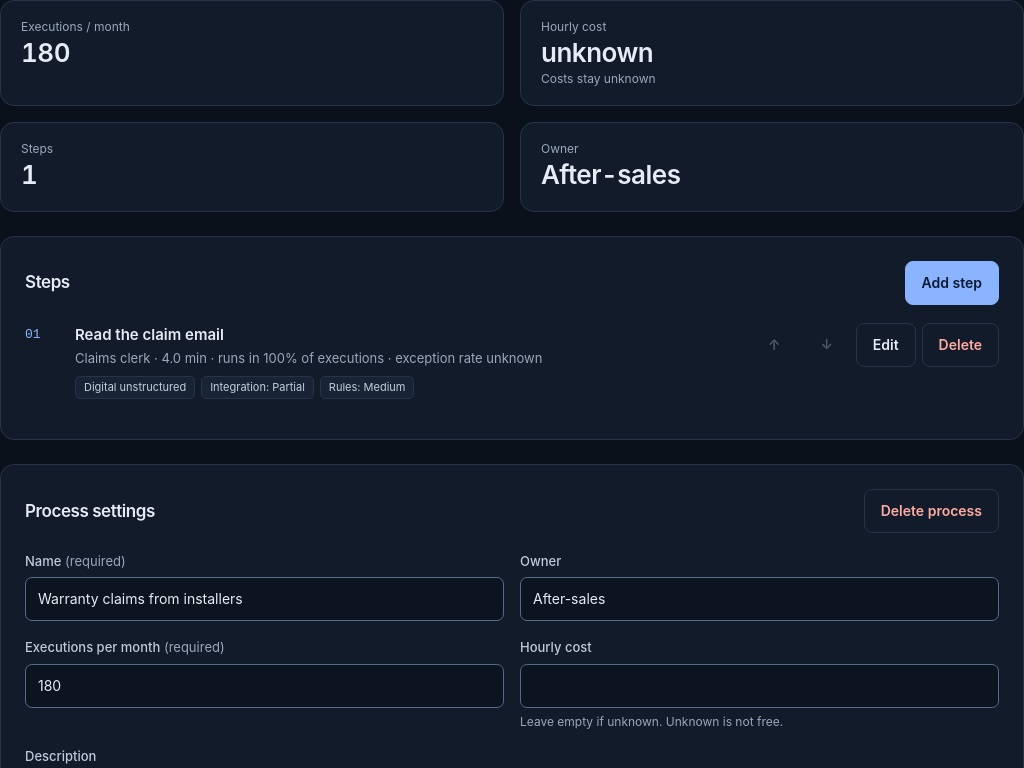
Test: RS-74: the step form › reads an unknown exception rate as unknown and saves it untouched as null (criterion 4)
Click the button "Edit" at (886, 344), box x1=856 y1=322 x2=916 y2=366
(page scrolled)
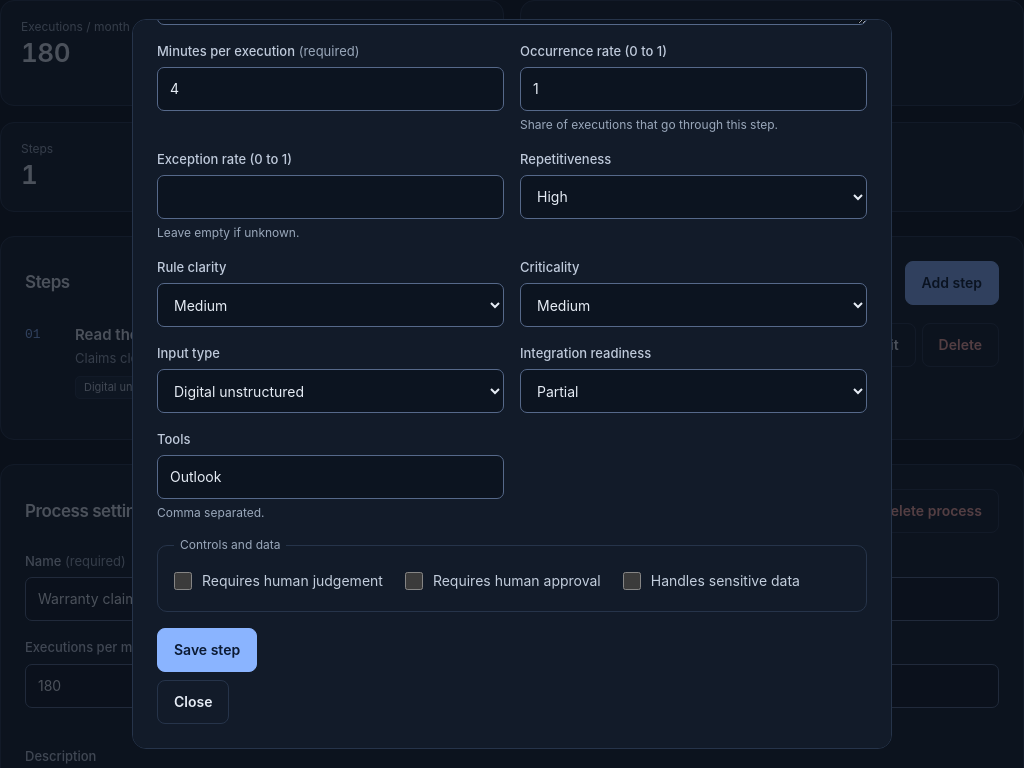
Expected: the text "exception rate unknown" is shown, x1=75 y1=350 x2=542 y2=366
Expected: the text "Leave empty if unknown." is shown, x1=157 y1=225 x2=299 y2=240
Click the button "Save step" at (207, 650), box x1=157 y1=628 x2=257 y2=672
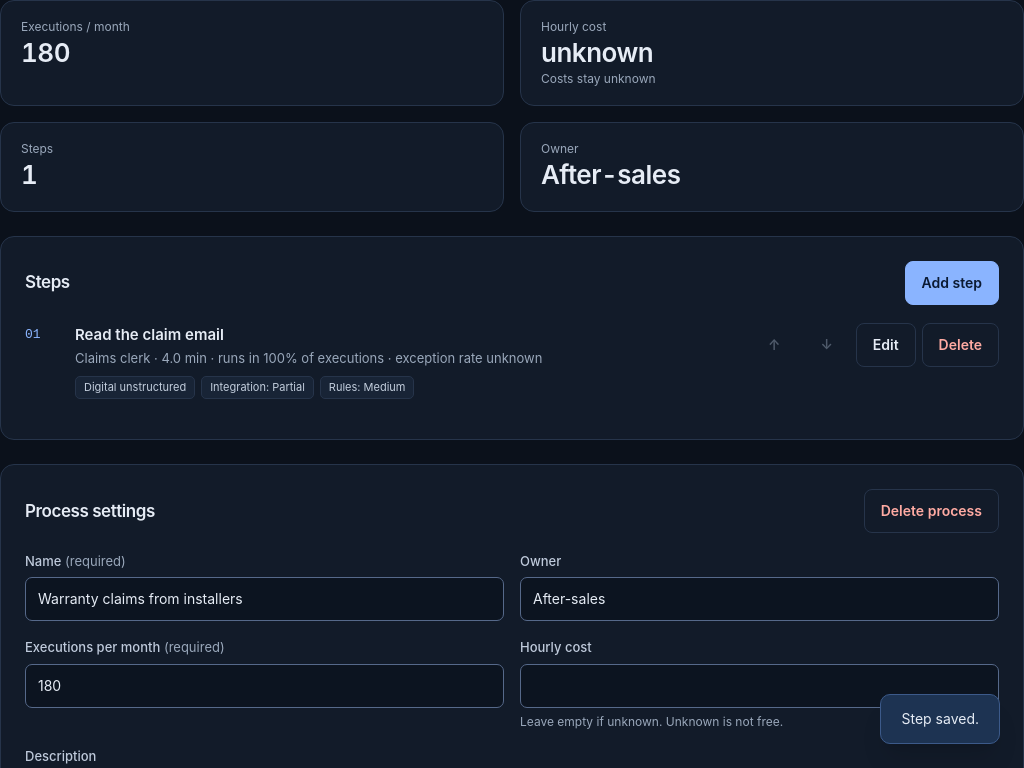
Expected: the text "Step saved." is shown, x1=880 y1=694 x2=1000 y2=744
Expected: the dialog is gone
